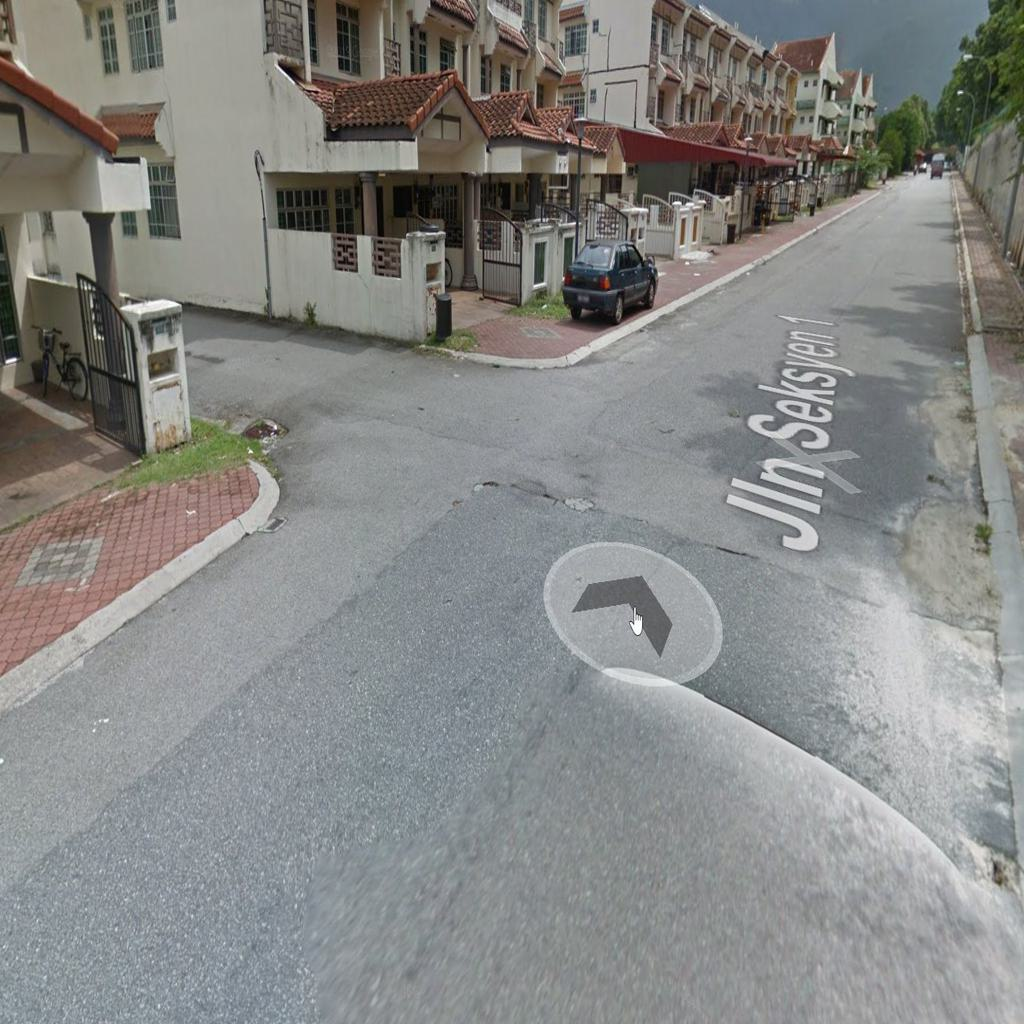Junction: (171, 279, 592, 578)
